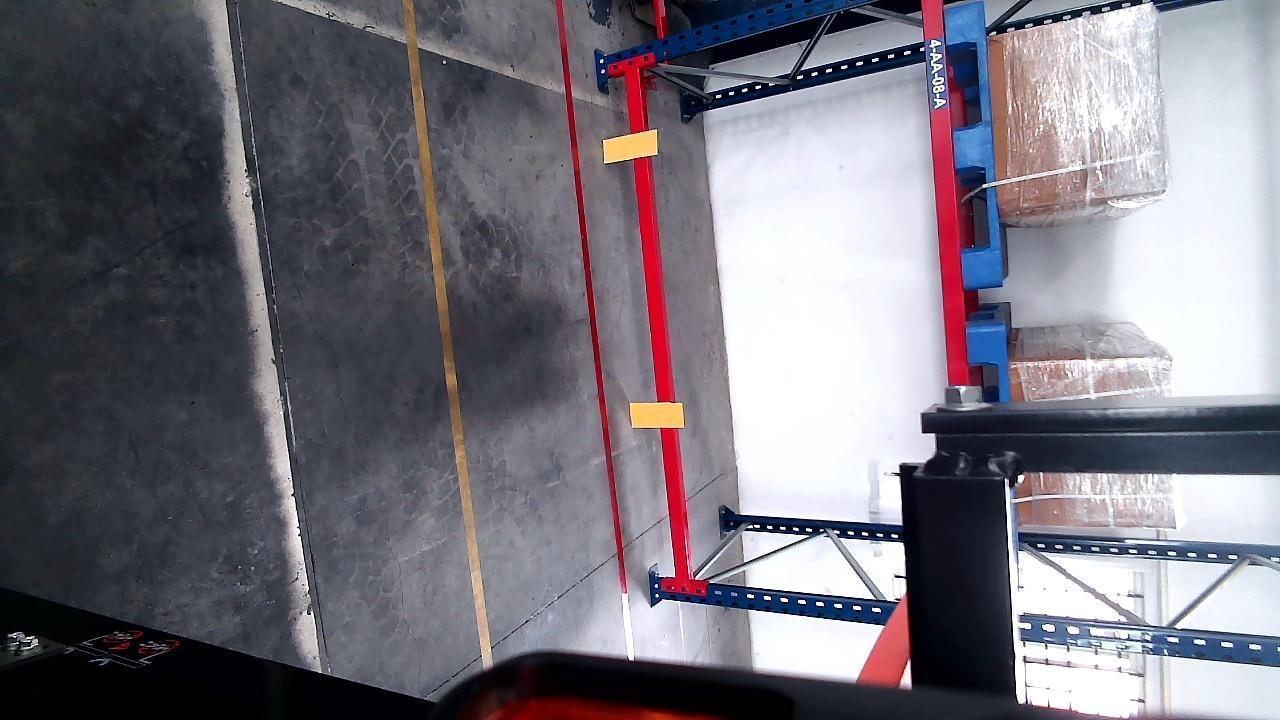h_rack: (627, 66, 692, 580), (922, 0, 965, 389)
orange_strip: (602, 130, 657, 162), (631, 401, 683, 428)
red_line: (549, 0, 639, 656)
small_pallet: (948, 9, 999, 276)
